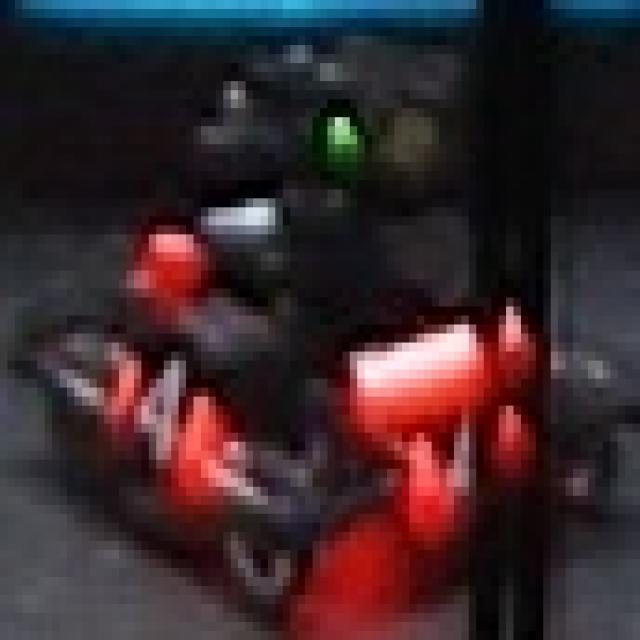R4: (104, 334, 216, 468)
